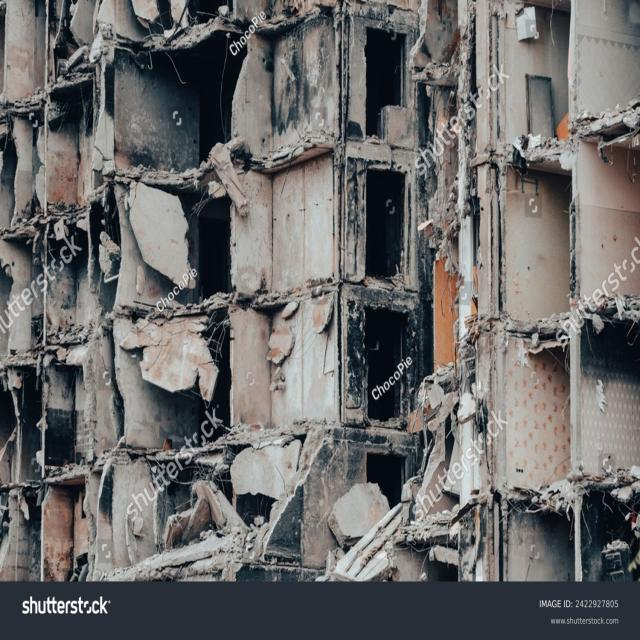Destroyed_building: (3, 3, 640, 584)
